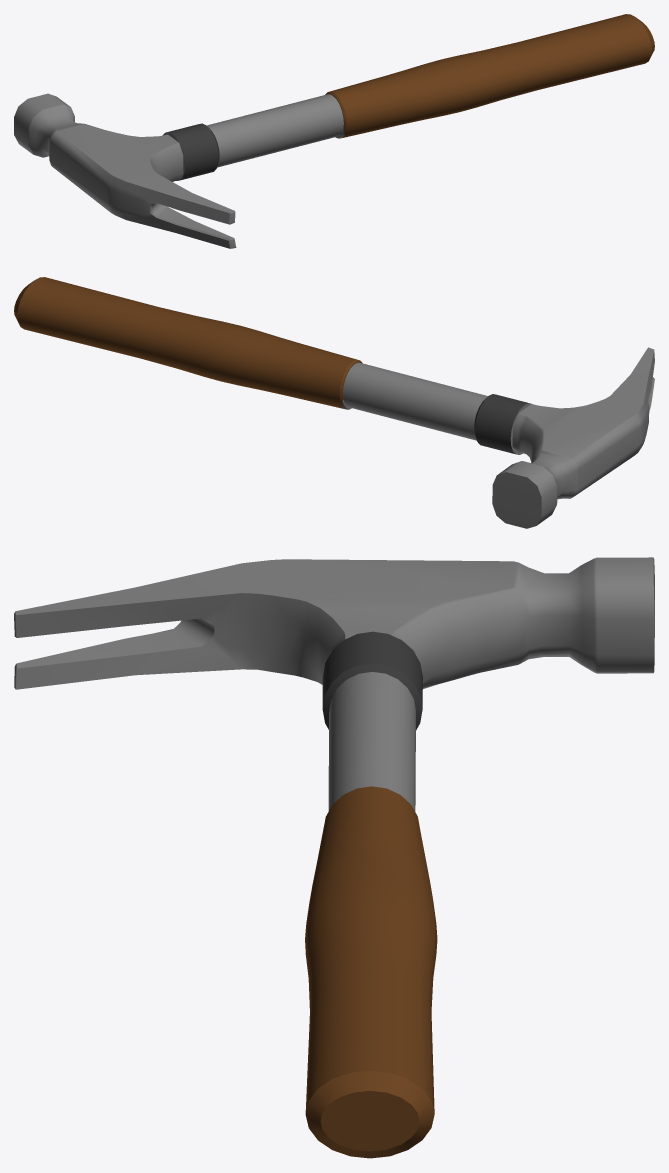
File: hammer.fbx
The picture shows the model from 3 angles, top to bottom: view 1: azimuth 30°, elevation 25°; view 2: azimuth 150°, elevation 25°; view 3: azimuth 270°, elevation 25°; orthographic projection. The views are drawn at different scales.
Visible parts, largest first — view 1: GAP Hammer; view 2: GAP Hammer; view 3: GAP Hammer.
Part boxes in pixels (left/top/right/bottom): GAP Hammer: left=14, top=14, right=654, bottom=248; GAP Hammer: left=14, top=277, right=654, bottom=528; GAP Hammer: left=14, top=557, right=654, bottom=1158.
Bounding box in the file's own units: 119 × 10.53 × 59.48.
